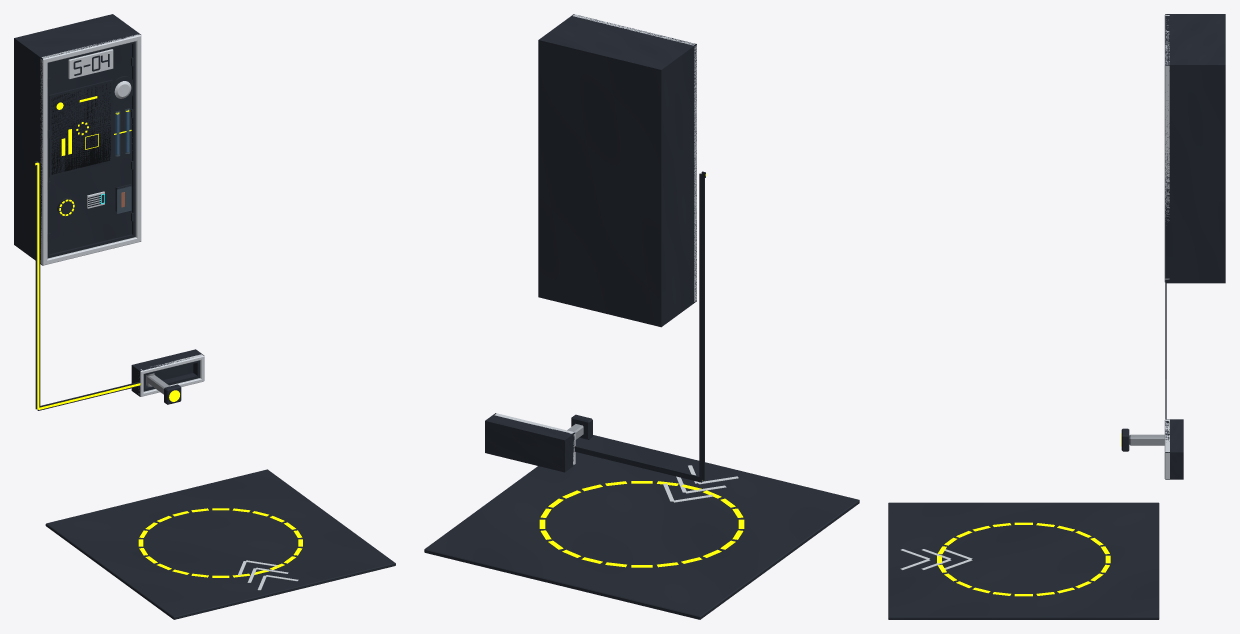
The model's file is door_hub_bulkhead.glb.
The picture shows the model from 3 angles, left to right: view 1: azimuth 30°, elevation 25°; view 2: azimuth 150°, elevation 25°; view 3: azimuth 270°, elevation 25°; orthographic projection. The views are drawn at different scales.
Visible parts, largest first — view 1: DockPad, HubPanel_Liner, HubPanel, HubPanel_Bezel, DisplayBezel, Display, HubPanel_BezelStep, LightPipe_Channel, DockPad_InductionRing, LightPipe, UnitNumber_Tab; view 2: HubPanel_Liner, DockPad, LightPipe_Channel, DockPad_InductionRing, HubPanel_Bezel; view 3: DockPad, HubPanel_Liner, HubPanel_Bezel, DockPad_InductionRing, DockPad_Chevrons.
Part boxes in pixels (x1,y1,x2,y2): DockPad: (45, 469, 395, 619); HubPanel_Liner: (14, 14, 204, 396); HubPanel: (49, 44, 131, 254); HubPanel_Bezel: (40, 34, 204, 396); DisplayBezel: (49, 79, 112, 177); Display: (51, 83, 110, 174); HubPanel_BezelStep: (47, 41, 199, 391); LightPipe_Channel: (34, 161, 140, 410); DockPad_InductionRing: (138, 508, 302, 577); LightPipe: (35, 162, 140, 409); UnitNumber_Tab: (68, 49, 113, 79); HubPanel_Liner: (485, 14, 696, 472); DockPad: (424, 435, 859, 619); LightPipe_Channel: (574, 171, 705, 482); DockPad_InductionRing: (539, 481, 744, 567); HubPanel_Bezel: (494, 14, 696, 464); DockPad: (888, 502, 1159, 619); HubPanel_Liner: (1165, 14, 1225, 479); HubPanel_Bezel: (1164, 15, 1169, 478); DockPad_InductionRing: (937, 522, 1110, 596); DockPad_Chevrons: (900, 549, 972, 570).
Bounding box in the file's own units: 0.93 × 1.8 × 1.12.
9 materials, 9 textured.
